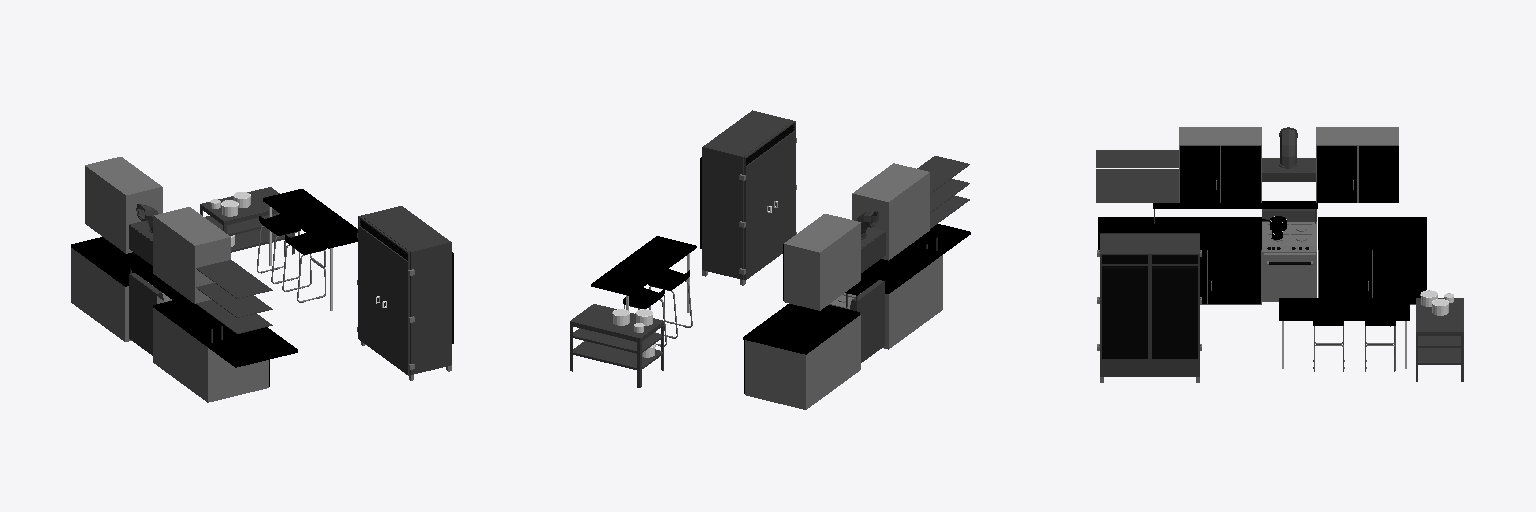
File: kitchen_furniture.obj
The picture shows the model from 3 angles: view 1: azimuth 30°, elevation 25°; view 2: azimuth 150°, elevation 25°; view 3: azimuth 270°, elevation 25°; orthographic projection.
Parts seen in each view (by area): view 1: polySurface2 polySurface10 polySurface1, Default7 polySurface10 polySurface1, Default6 polySurface10 polySurface1, Default10 polySurface10 polySurface1, Default9 polySurface10 polySurface1, counter_top polySurface10 polySurface1, Default11 polySurface10 polySurface1, metal2 polySurface10 polySurface1, polySurface10 table_top polySurface1, Default4 polySurface9 polySurface10 polySurface1, counter_top2 polySurface10 polySurface1, Default polySurface3 polySurface10 polySurface1 (+2 smaller); view 2: polySurface2 polySurface10 polySurface1, Default11 polySurface10 polySurface1, Default10 polySurface10 polySurface1, Default6 polySurface10 polySurface1, Default4 polySurface9 polySurface10 polySurface1, counter_top2 polySurface10 polySurface1, Default7 polySurface10 polySurface1, metal2 polySurface10 polySurface1, polySurface10 table_top polySurface1, Default9 polySurface10 polySurface1, counter_top polySurface10 polySurface1, Default polySurface3 polySurface10 polySurface1; view 3: polySurface2 polySurface10 polySurface1, Default6 polySurface10 polySurface1, Default10 polySurface10 polySurface1, Default11 polySurface10 polySurface1, Default9 polySurface10 polySurface1, counter_top polySurface10 polySurface1, counter_top2 polySurface10 polySurface1, Default7 polySurface10 polySurface1, polySurface10 table_top polySurface1, Default4 polySurface9 polySurface10 polySurface1, metal polySurface10 polySurface1, metal2 polySurface10 polySurface1 (+2 smaller).
Boxes of the visible parts, x1=… form: polySurface2 polySurface10 polySurface1: x1=357, y1=206, x2=453, y2=380; Default7 polySurface10 polySurface1: x1=153, y1=308, x2=269, y2=402; Default6 polySurface10 polySurface1: x1=153, y1=207, x2=230, y2=303; Default10 polySurface10 polySurface1: x1=85, y1=157, x2=162, y2=253; Default9 polySurface10 polySurface1: x1=196, y1=260, x2=272, y2=333; counter_top polySurface10 polySurface1: x1=153, y1=300, x2=297, y2=367; Default11 polySurface10 polySurface1: x1=71, y1=248, x2=131, y2=341; metal2 polySurface10 polySurface1: x1=129, y1=264, x2=223, y2=355; polySurface10 table_top polySurface1: x1=263, y1=189, x2=357, y2=248; Default4 polySurface9 polySurface10 polySurface1: x1=200, y1=187, x2=294, y2=252; counter_top2 polySurface10 polySurface1: x1=71, y1=237, x2=152, y2=286; Default polySurface3 polySurface10 polySurface1: x1=129, y1=204, x2=158, y2=265; polySurface2 polySurface10 polySurface1: x1=700, y1=110, x2=796, y2=285; Default11 polySurface10 polySurface1: x1=744, y1=315, x2=860, y2=409; Default10 polySurface10 polySurface1: x1=783, y1=214, x2=860, y2=310; Default6 polySurface10 polySurface1: x1=852, y1=163, x2=929, y2=260; Default4 polySurface9 polySurface10 polySurface1: x1=570, y1=304, x2=663, y2=370; counter_top2 polySurface10 polySurface1: x1=743, y1=304, x2=859, y2=354; Default7 polySurface10 polySurface1: x1=883, y1=255, x2=942, y2=349; metal2 polySurface10 polySurface1: x1=833, y1=231, x2=939, y2=362; polySurface10 table_top polySurface1: x1=591, y1=236, x2=696, y2=295; Default9 polySurface10 polySurface1: x1=917, y1=156, x2=969, y2=228; counter_top polySurface10 polySurface1: x1=861, y1=224, x2=970, y2=293; Default polySurface3 polySurface10 polySurface1: x1=856, y1=210, x2=885, y2=272; polySurface2 polySurface10 polySurface1: x1=1097, y1=233, x2=1201, y2=382; Default6 polySurface10 polySurface1: x1=1179, y1=127, x2=1261, y2=202; Default10 polySurface10 polySurface1: x1=1316, y1=127, x2=1398, y2=202; Default11 polySurface10 polySurface1: x1=1318, y1=250, x2=1426, y2=304; Default9 polySurface10 polySurface1: x1=1096, y1=150, x2=1178, y2=202; counter_top polySurface10 polySurface1: x1=1098, y1=217, x2=1261, y2=249; counter_top2 polySurface10 polySurface1: x1=1318, y1=217, x2=1426, y2=249; Default7 polySurface10 polySurface1: x1=1200, y1=250, x2=1261, y2=304; polySurface10 table_top polySurface1: x1=1279, y1=298, x2=1409, y2=320; Default4 polySurface9 polySurface10 polySurface1: x1=1416, y1=298, x2=1463, y2=364; metal polySurface10 polySurface1: x1=1262, y1=252, x2=1316, y2=301; metal2 polySurface10 polySurface1: x1=1153, y1=201, x2=1317, y2=242.
Bounding box in the file's own units: 3.92 × 2.52 × 5.59.